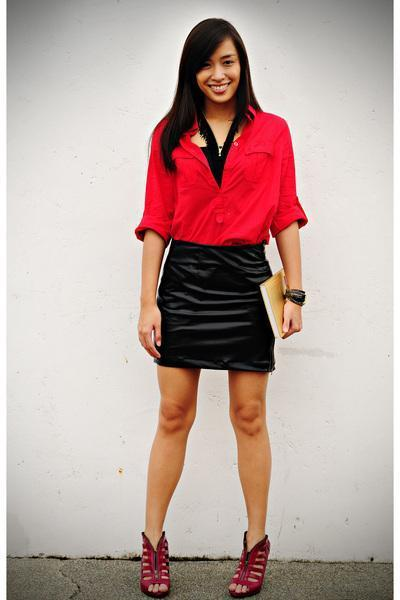dress: (156, 109, 274, 373)
jacket: (137, 108, 307, 251)
shoe: (141, 540, 269, 599)
